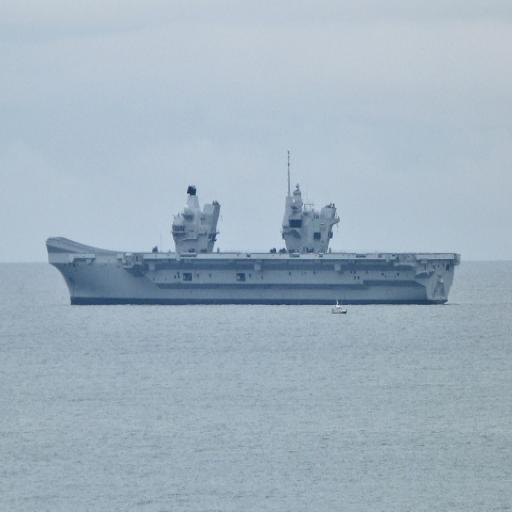Portanaves: (45, 145, 465, 311)
